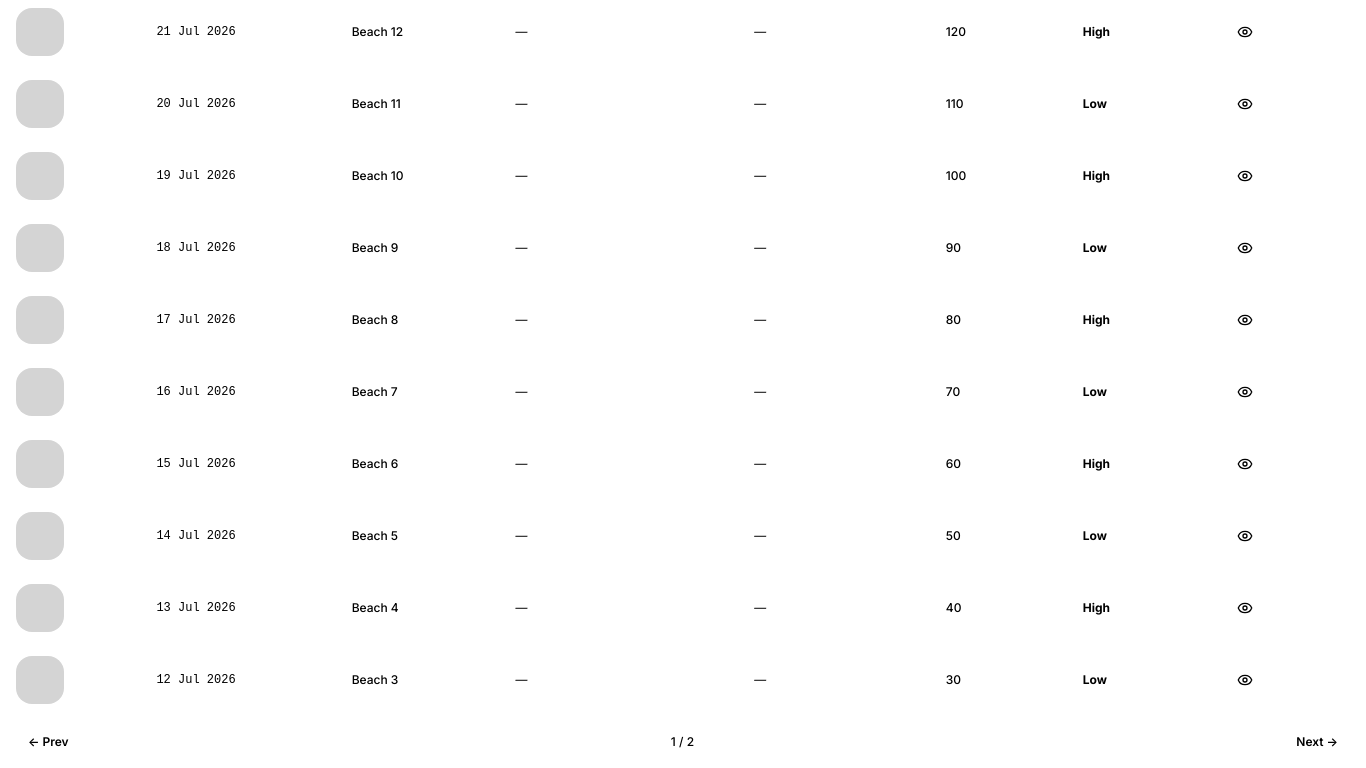
Test: HistoryTable — pagination › navigates back to previous page on ← Prev click
This screenshot has width=1366, height=768.
(page scrolled)
Click the button "Next →": x=1317, y=742 [1284,728,1350,756]
(page scrolled)
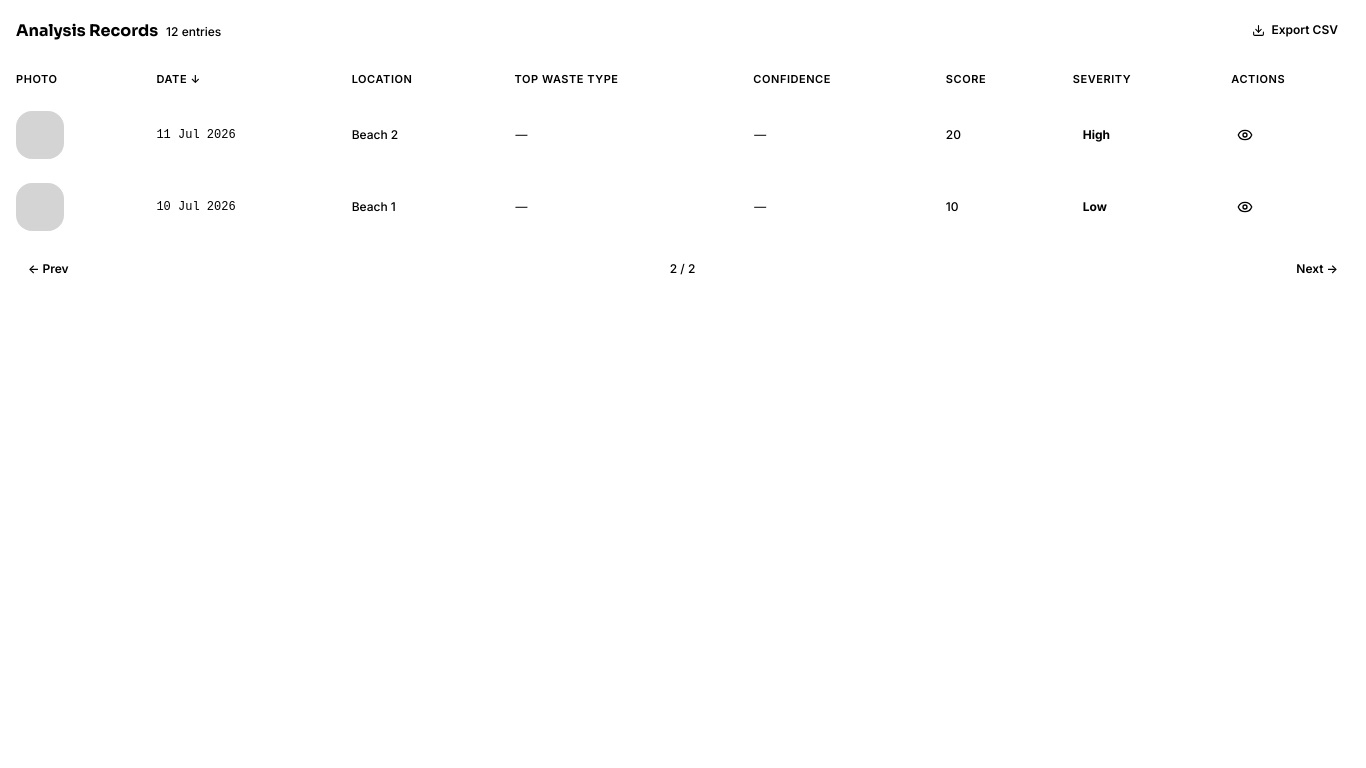
Click the button "← Prev": x=48, y=269 [16,255,81,283]
(page scrolled)
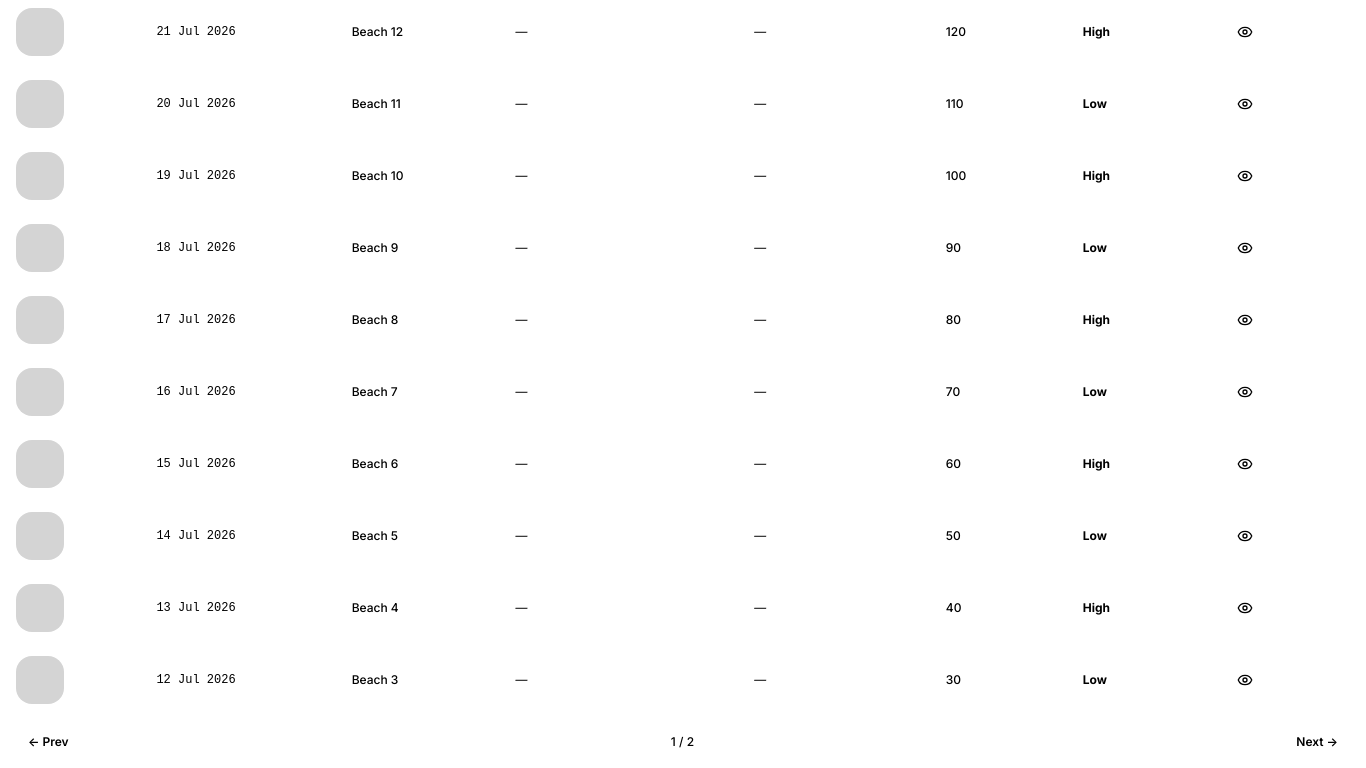
Now the text "1 / 2" is shown, box [671,734,694,750]
